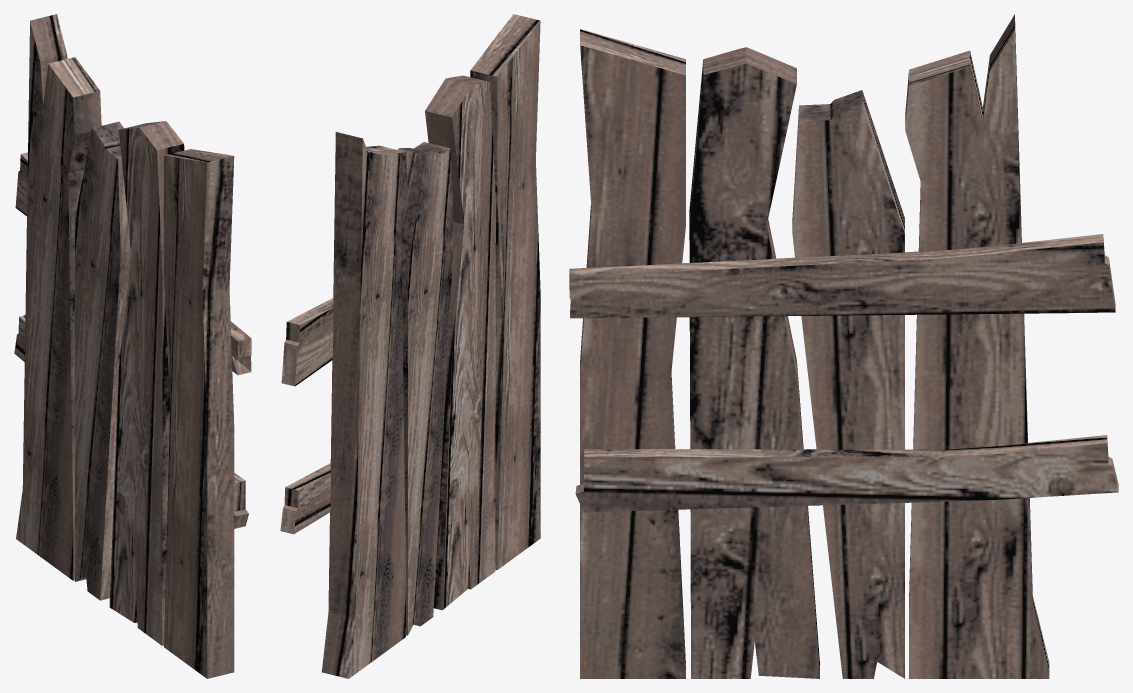
File: Fence2.fbx
3 views of the same model, side by side, from view 1: azimuth 30°, elevation 25°; view 2: azimuth 150°, elevation 25°; view 3: azimuth 270°, elevation 25° (orthographic). The views are drawn at different scales.
Parts seen in each view (by area): view 1: Fence_02; view 2: Fence_02; view 3: Fence_02.
Boxes of the visible parts, left/top/right/bottom form: Fence_02: left=14, top=14, right=251, bottom=678; Fence_02: left=280, top=14, right=540, bottom=678; Fence_02: left=569, top=14, right=1118, bottom=678.
Bounding box in the file's own units: 17.86 × 226 × 173.
1 material, 1 textured.
